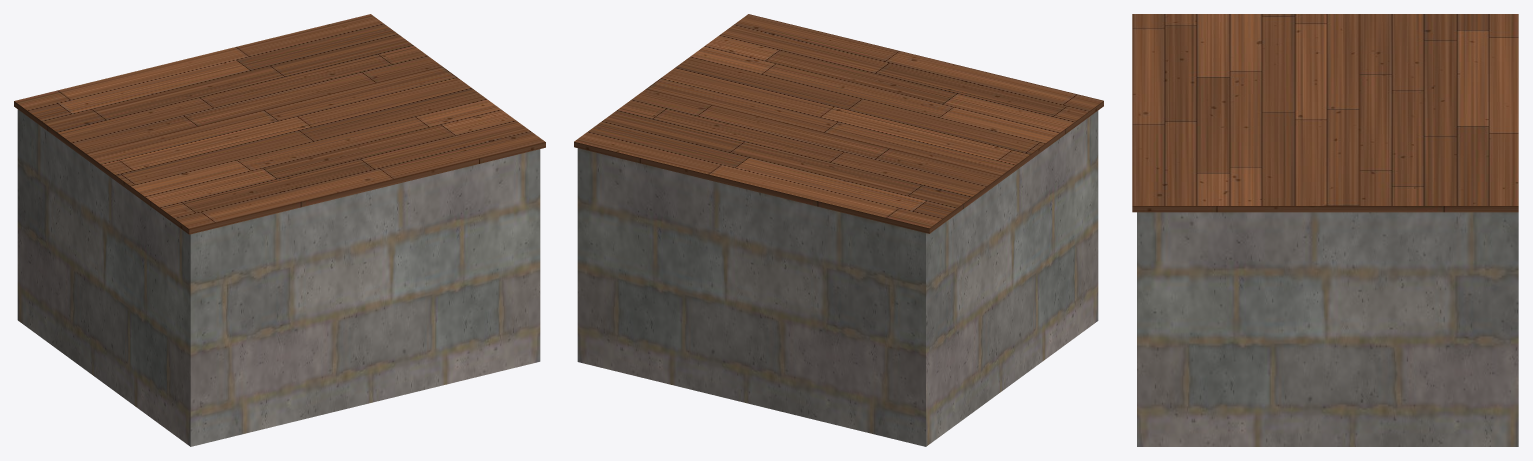
The model's file is floor_wood_e0_0_30_0.glb.
The picture shows the model from 3 angles, left to right: view 1: azimuth 30°, elevation 25°; view 2: azimuth 150°, elevation 25°; view 3: azimuth 270°, elevation 25°; orthographic projection. The views are drawn at different scales.
Parts seen in each view (by area): view 1: floor_wood_e0_0_30_0_granite, floor_wood_e0_0_30_0_wood; view 2: floor_wood_e0_0_30_0_granite, floor_wood_e0_0_30_0_wood; view 3: floor_wood_e0_0_30_0_granite, floor_wood_e0_0_30_0_wood.
Boxes of the visible parts, x1,y1,x2,y2 form: floor_wood_e0_0_30_0_granite: [17, 109, 540, 446]; floor_wood_e0_0_30_0_wood: [14, 14, 545, 234]; floor_wood_e0_0_30_0_granite: [577, 111, 1098, 446]; floor_wood_e0_0_30_0_wood: [574, 14, 1103, 233]; floor_wood_e0_0_30_0_granite: [1137, 212, 1518, 446]; floor_wood_e0_0_30_0_wood: [1132, 14, 1518, 212].
Size of the model in its own units: 2 by 1.18 by 1.7.
2 materials, 2 textured.
